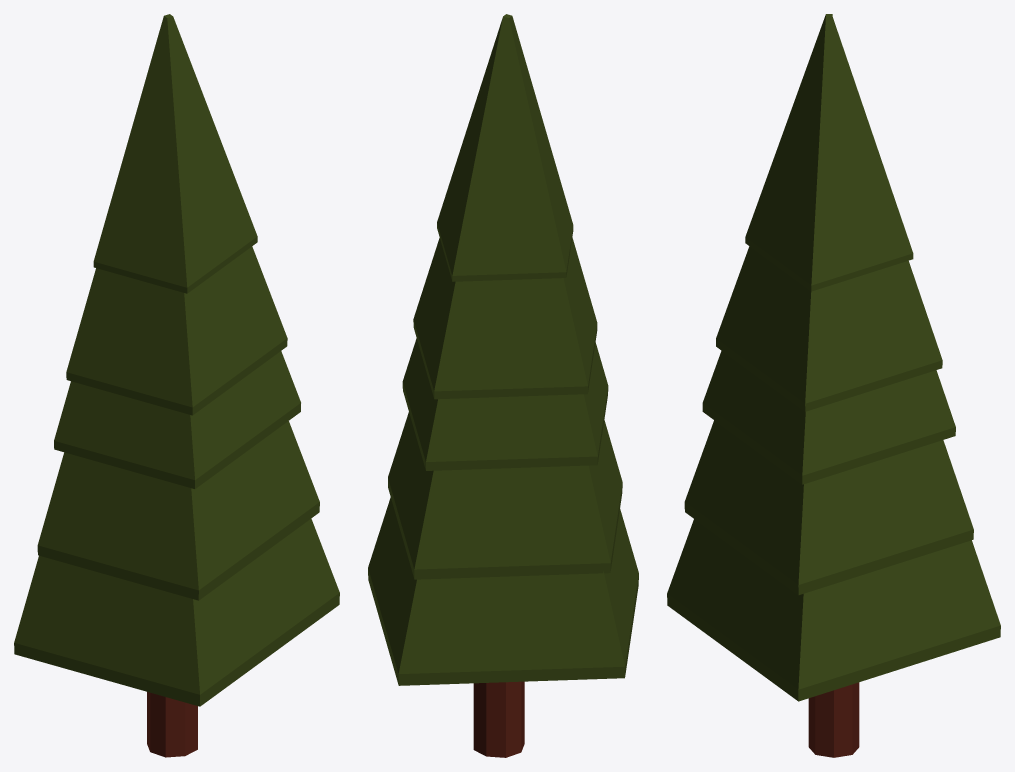
Rendered from treewithout.fbx.
The picture shows the model from 3 angles, left to right: view 1: azimuth 30°, elevation 25°; view 2: azimuth 150°, elevation 25°; view 3: azimuth 270°, elevation 25°; orthographic projection.
Visible parts, largest first — view 1: Plane.004, Plane; view 2: Plane.004, Plane; view 3: Plane.004, Plane.
Part boxes in pixels (box(x1,y1,x2,y2)): Plane.004: box(14, 14, 339, 706); Plane: box(147, 692, 197, 757); Plane.004: box(368, 14, 638, 685); Plane: box(473, 681, 524, 757); Plane.004: box(667, 14, 1000, 701); Plane: box(808, 682, 859, 757).
Size of the model in its own units: 659 by 1582 by 657.
